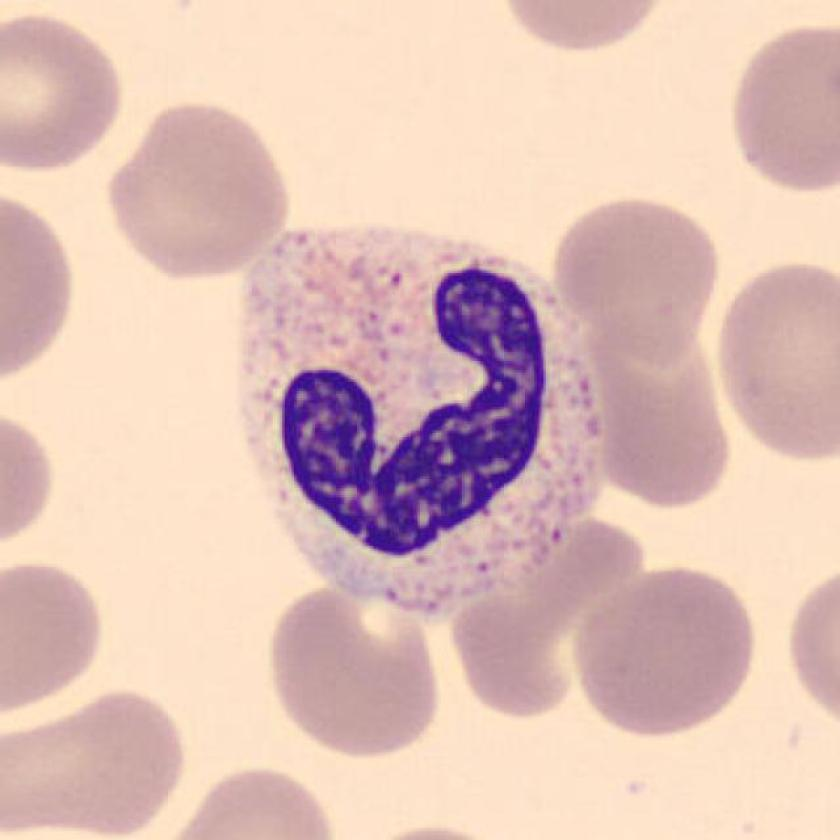neutrophil: (240, 231, 601, 611)
